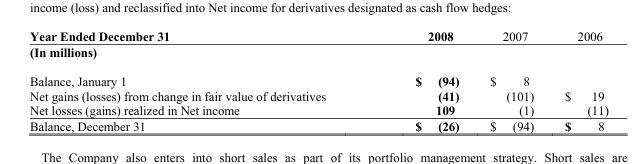table: (28, 28, 607, 132)
table column: (28, 28, 369, 132), (369, 28, 473, 132), (473, 28, 548, 132), (548, 28, 607, 132)
table column header: (28, 28, 607, 43)
table projected row header: (28, 43, 607, 66)
table row: (28, 43, 607, 66), (28, 66, 607, 88), (28, 28, 607, 43), (28, 102, 607, 117), (28, 117, 607, 132), (28, 88, 607, 102)
